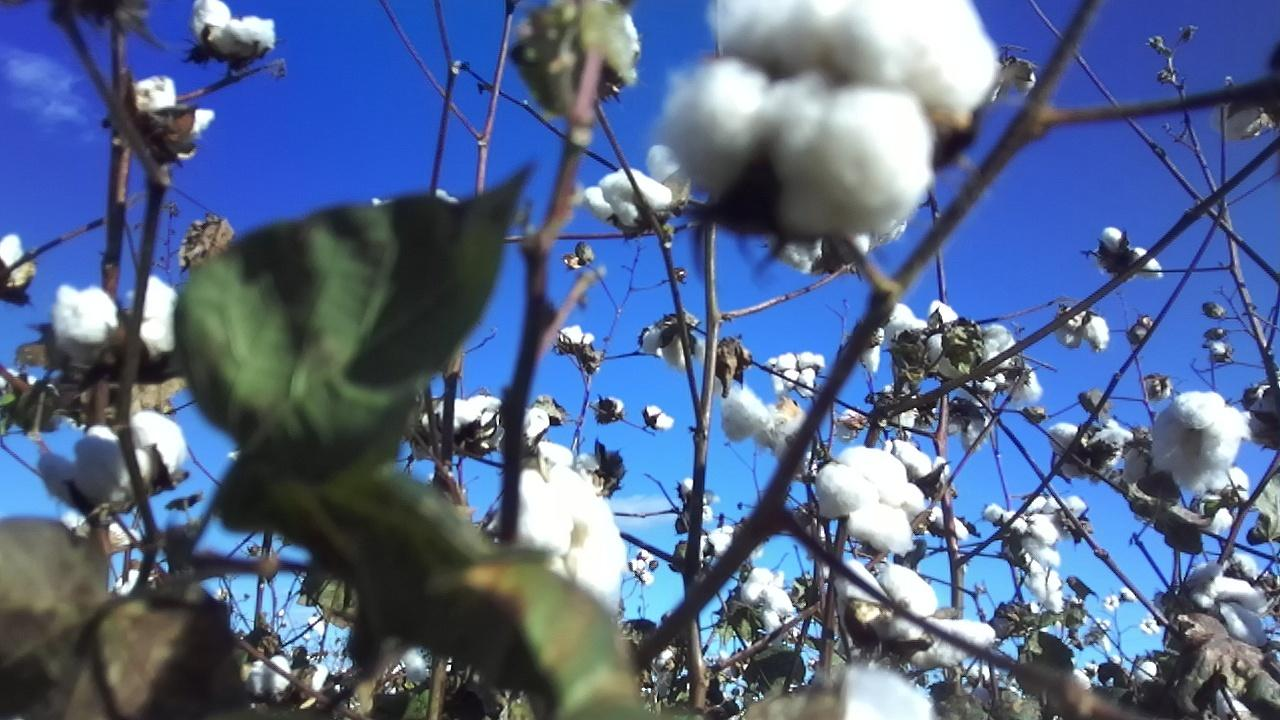cotton_ready: (660, 0, 1002, 237), (833, 557, 999, 670), (517, 464, 629, 619), (39, 410, 190, 514), (50, 273, 192, 365), (814, 447, 925, 557), (741, 662, 939, 720), (1148, 391, 1244, 490), (583, 145, 689, 234), (420, 385, 548, 452), (129, 73, 217, 159), (883, 301, 975, 382), (1182, 564, 1270, 646), (231, 654, 330, 714), (195, 0, 274, 67), (0, 230, 30, 293), (1005, 365, 1043, 407)
